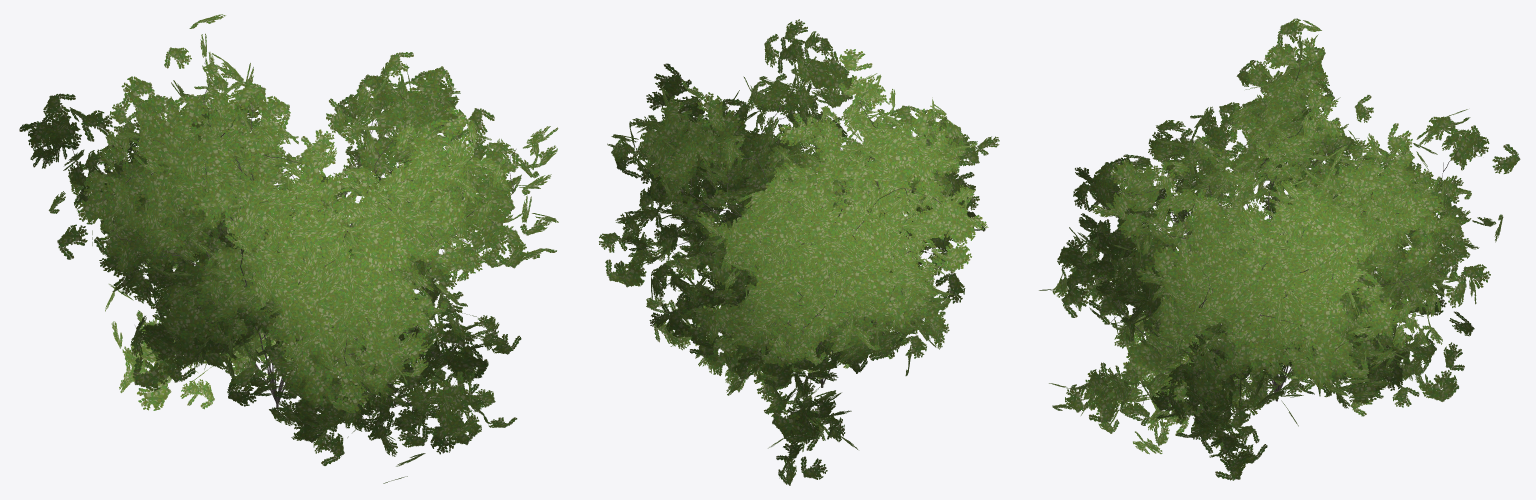
The model's file is KO3_KermesOak_TallDense_2.8m.glb.
3 renders of one model, left to right at view 1: azimuth 30°, elevation 25°; view 2: azimuth 150°, elevation 25°; view 3: azimuth 270°, elevation 25°, orthographic. The views are drawn at different scales.
Parts seen in each view (by area): view 1: KO3_leaves, KO3_wood; view 2: KO3_leaves, KO3_wood; view 3: KO3_leaves, KO3_wood.
Boxes of the visible parts, x1,y1,x2,y2 form: KO3_leaves: [19, 14, 558, 483]; KO3_wood: [47, 63, 516, 429]; KO3_leaves: [599, 19, 999, 485]; KO3_wood: [627, 48, 963, 431]; KO3_leaves: [1039, 18, 1520, 480]; KO3_wood: [1066, 55, 1477, 431].
Size of the model in its own units: 3.26 by 3.07 by 3.46.
Materials: 2 (2 with a texture image).
